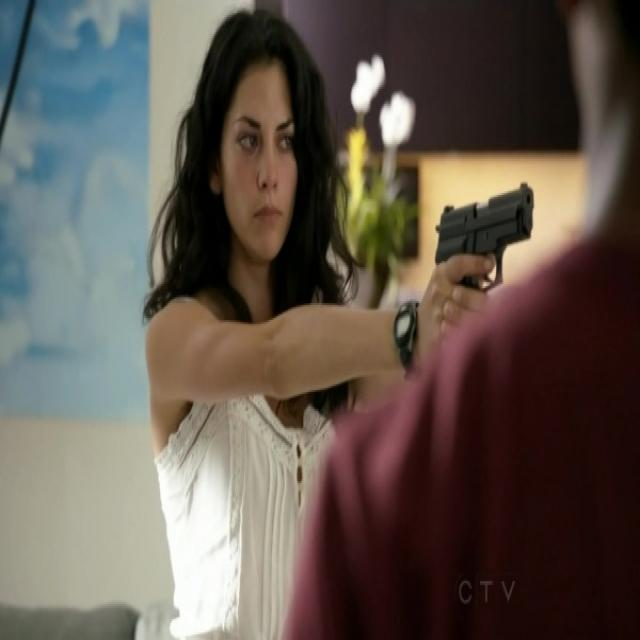weapons: (418, 183, 552, 336)
